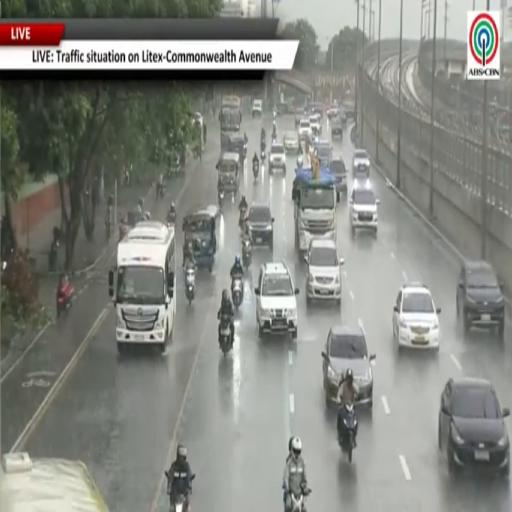bus: (109, 221, 176, 351), (0, 453, 108, 511)
car: (438, 378, 510, 476), (322, 326, 375, 407), (456, 261, 504, 339), (255, 263, 299, 339), (393, 283, 440, 349), (305, 238, 344, 305), (349, 182, 378, 234), (247, 203, 274, 249), (330, 156, 347, 201), (353, 149, 370, 179), (269, 142, 285, 173), (315, 140, 332, 167), (283, 133, 300, 154), (298, 119, 312, 140), (307, 103, 323, 119), (331, 117, 342, 139), (309, 115, 321, 135), (295, 107, 305, 127), (206, 204, 220, 218), (327, 104, 339, 120), (252, 100, 262, 117), (194, 112, 203, 129)
motorcycle: (338, 404, 357, 462), (57, 281, 74, 317), (219, 315, 232, 356), (185, 263, 195, 305), (291, 489, 310, 511), (48, 239, 59, 272), (232, 278, 243, 310), (170, 494, 189, 511), (242, 238, 251, 268), (239, 207, 247, 229), (156, 183, 164, 199), (167, 212, 176, 226), (218, 187, 224, 205), (253, 160, 258, 180), (260, 148, 266, 161), (297, 155, 303, 168), (272, 134, 276, 145)
truck: (292, 168, 336, 257), (219, 95, 241, 150)
